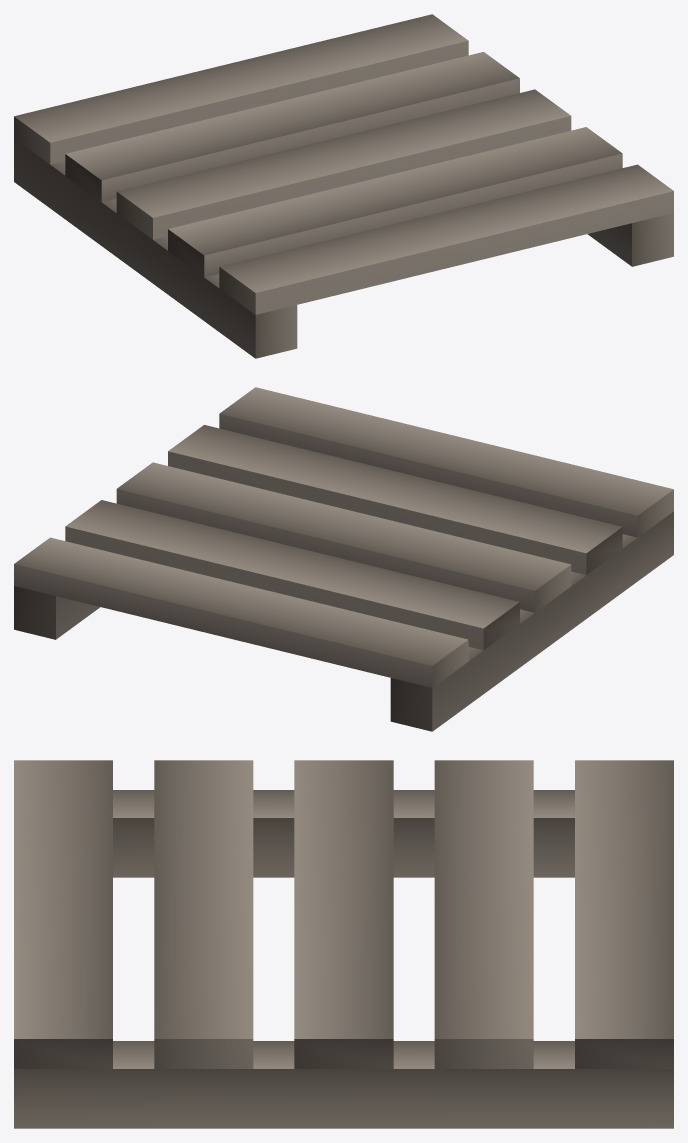
The model's file is pallet.glb.
3 renders of one model, top to bottom at view 1: azimuth 30°, elevation 25°; view 2: azimuth 150°, elevation 25°; view 3: azimuth 270°, elevation 25°, orthographic. The views are drawn at different scales.
Parts seen in each view (by area): view 1: pallet; view 2: pallet; view 3: pallet.
Part boxes in pixels (x1,y1,x2,y2): pallet: [14, 14, 673, 358]; pallet: [14, 387, 673, 731]; pallet: [14, 760, 673, 1128].
Bounding box in the file's own units: 1 × 0.15 × 1.
